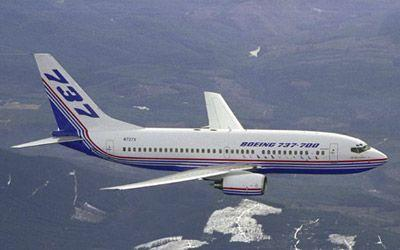airplane: (8, 53, 389, 202)
